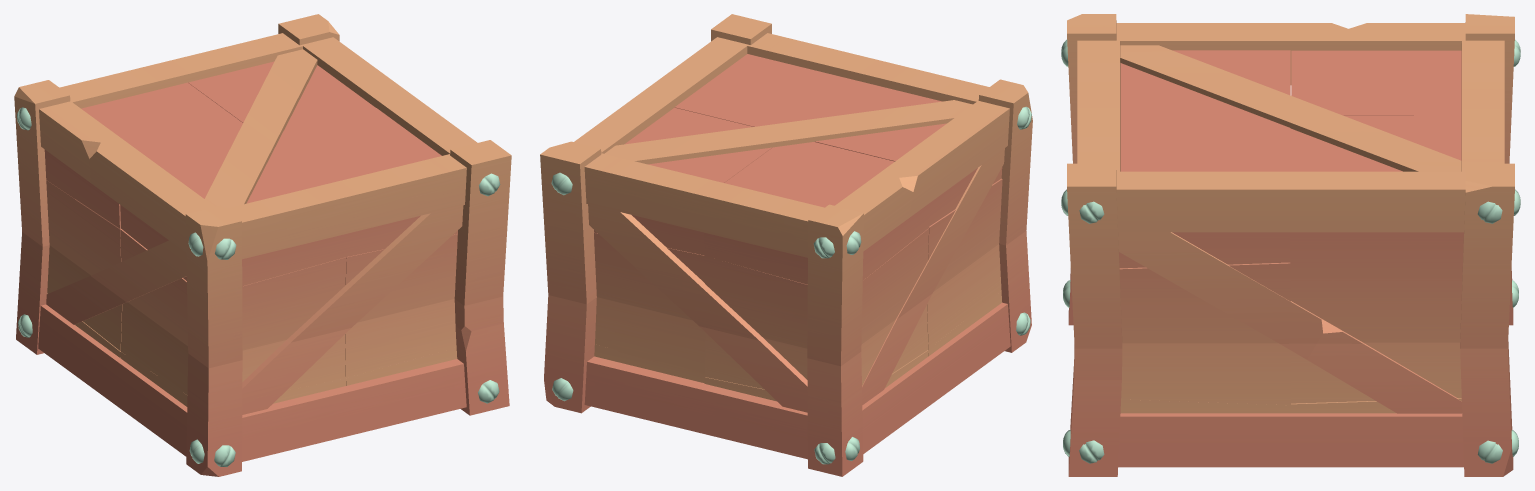
Rendered from BreakableBox.fbx.
The picture shows the model from 3 angles, left to right: view 1: azimuth 30°, elevation 25°; view 2: azimuth 150°, elevation 25°; view 3: azimuth 270°, elevation 25°; orthographic projection. The views are drawn at different scales.
Parts seen in each view (by area): view 1: main_cell.003, Cube.015, Cube.014, Cube.016, Cube.013, Cube.017, Cube.005, main_cell.011, main_cell.006, main_cell.007, main_cell.004, Cube.008 (+10 smaller); view 2: Cube.020, main_cell.005, Cube.019, Cube.021, Cube.018, main_cell.011, Cube.022, Cube.005, main_cell.008, Cube.023, main_cell.007, Cube.008 (+11 smaller); view 3: Cube.010, Cube.009, main_cell.006, main_cell.008, Cube.012, Cube.016, Cube.021, main_cell.007, main_cell.010, main_cell.011, Cube.023, Cube.005 (+7 smaller).
Boxes of the visible parts, x1,y1,x2,y2 form: main_cell.003: [120, 229, 346, 395]; Cube.015: [185, 205, 242, 476]; Cube.014: [225, 154, 466, 259]; Cube.016: [450, 140, 511, 415]; Cube.013: [242, 359, 466, 461]; Cube.017: [242, 205, 463, 414]; Cube.005: [39, 101, 214, 252]; main_cell.011: [44, 82, 242, 228]; main_cell.006: [345, 234, 457, 377]; main_cell.007: [276, 108, 457, 256]; main_cell.004: [120, 143, 347, 286]; Cube.008: [38, 304, 187, 456]; Cube.020: [807, 204, 863, 476]; main_cell.005: [704, 228, 928, 389]; Cube.019: [584, 153, 824, 257]; Cube.021: [540, 141, 601, 413]; Cube.018: [584, 356, 807, 459]; main_cell.011: [704, 142, 929, 284]; Cube.022: [588, 204, 807, 412]; Cube.005: [835, 100, 1009, 251]; main_cell.008: [594, 232, 705, 376]; Cube.023: [604, 100, 972, 164]; main_cell.007: [674, 54, 860, 126]; Cube.008: [862, 302, 1010, 453]; Cube.010: [1116, 171, 1465, 232]; Cube.009: [1118, 413, 1463, 467]; main_cell.006: [1119, 262, 1290, 405]; main_cell.008: [1291, 264, 1462, 403]; Cube.012: [1118, 232, 1462, 413]; Cube.016: [1067, 163, 1122, 476]; Cube.021: [1460, 163, 1514, 476]; main_cell.007: [1119, 116, 1290, 268]; main_cell.010: [1290, 116, 1463, 269]; main_cell.011: [1291, 50, 1461, 115]; Cube.023: [1120, 45, 1461, 171]; Cube.005: [1098, 23, 1479, 84].
Bounding box in the file's own units: 208 × 160 × 228.
